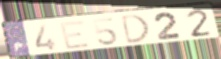2: (185, 7, 214, 38), (154, 11, 183, 42)
4: (33, 24, 58, 52)
5: (92, 16, 119, 46)
D: (120, 13, 151, 46)
E: (58, 19, 92, 51)
